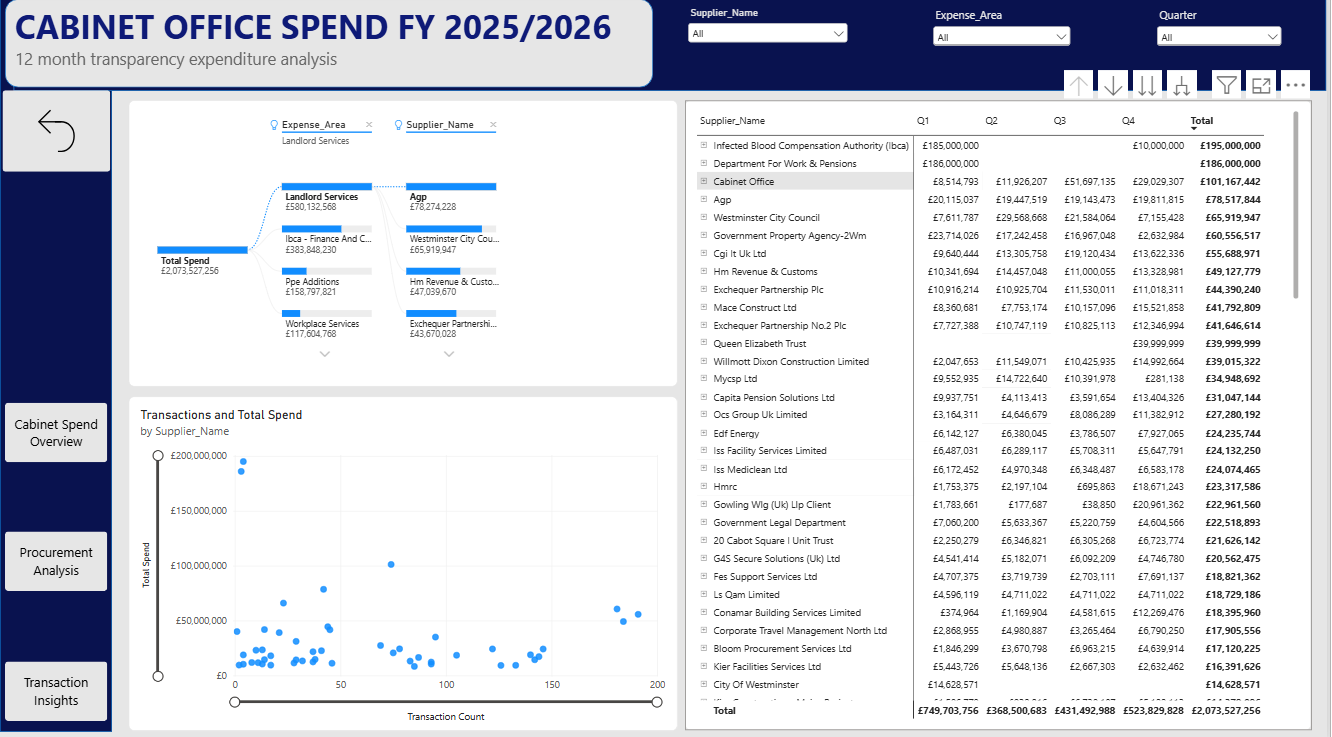

The page's visual inventory and layout, read from the dashboard file:
{"tool":"powerbi","page":{"name":"Procurement Analysis","canvas":[1920,1080],"ordinal":1},"visuals":[{"type":"shape","title":"Side Navigation","box":[0,0,162,1068],"z":0},{"type":"shape","title":"Top Bar","box":[20,0,1900,140],"z":1000},{"type":"slicer","fields":{"Values":["Dim_Supplier.Supplier_Name"]},"box":[992,18,240,84],"z":2000},{"type":"slicer","fields":{"Values":["Dim_Category.Expense_Area"]},"box":[1347,18,208,84],"z":3000},{"type":"slicer","fields":{"Values":["Dim_Date.Quarter"]},"box":[1670,18,190,84],"z":4000},{"type":"decompositionTreeVisual","fields":{"Analyze":["_Measures.Total Spend"],"ExplainBy":["Dim_Category.Expense_Area","Dim_Supplier.Supplier_Name"]},"box":[186,154,794,414],"z":5000},{"type":"scatterChart","fields":{"Category":["Dim_Supplier.Supplier_Name"],"X":["_Measures.Transactions"],"Y":["_Measures.Total Spend"]},"box":[186,582,794,484],"z":6000},{"type":"pivotTable","fields":{"Columns":["Dim_Date.Quarter"],"Rows":["Dim_Supplier.Supplier_Name","Dim_Category.Expense_Area"],"Values":["_Measures.Total Spend"]},"box":[992,154,906,912],"z":7000},{"type":"actionButton","box":[8,592,148,86],"z":8000},{"type":"actionButton","box":[8,966,148,86],"z":9000},{"type":"actionButton","box":[8,779,148,86],"z":10000},{"type":"actionButton","box":[4,140,156,118],"z":11000},{"type":"shape","box":[8,8,938,128],"z":11001},{"type":"textbox","box":[20,18,926,118],"z":11002},{"type":"textbox","box":[22,12,910,120],"z":11003}]}

Visuals, with their boxes in screenshot pixels (x1, y1, x2, y2), scaled from the page's 1920x1080 canvas onto the 1332x737 screenshot:
"Side Navigation" shape: Rect(0, 0, 112, 729)
"Top Bar" shape: Rect(14, 0, 1331, 96)
slicer - Dim_Supplier.Supplier_Name: Rect(688, 12, 855, 70)
slicer - Dim_Category.Expense_Area: Rect(934, 12, 1079, 70)
slicer - Dim_Date.Quarter: Rect(1159, 12, 1290, 70)
decompositionTreeVisual - _Measures.Total Spend x Dim_Category.Expense_Area: Rect(129, 105, 680, 388)
scatterChart - Dim_Supplier.Supplier_Name x _Measures.Transactions: Rect(129, 397, 680, 727)
pivotTable - Dim_Date.Quarter x Dim_Supplier.Supplier_Name: Rect(688, 105, 1317, 727)
actionButton: Rect(6, 404, 108, 463)
actionButton: Rect(6, 659, 108, 718)
actionButton: Rect(6, 532, 108, 590)
actionButton: Rect(3, 96, 111, 176)
shape: Rect(6, 5, 656, 93)
textbox: Rect(14, 12, 656, 93)
textbox: Rect(15, 8, 647, 90)
